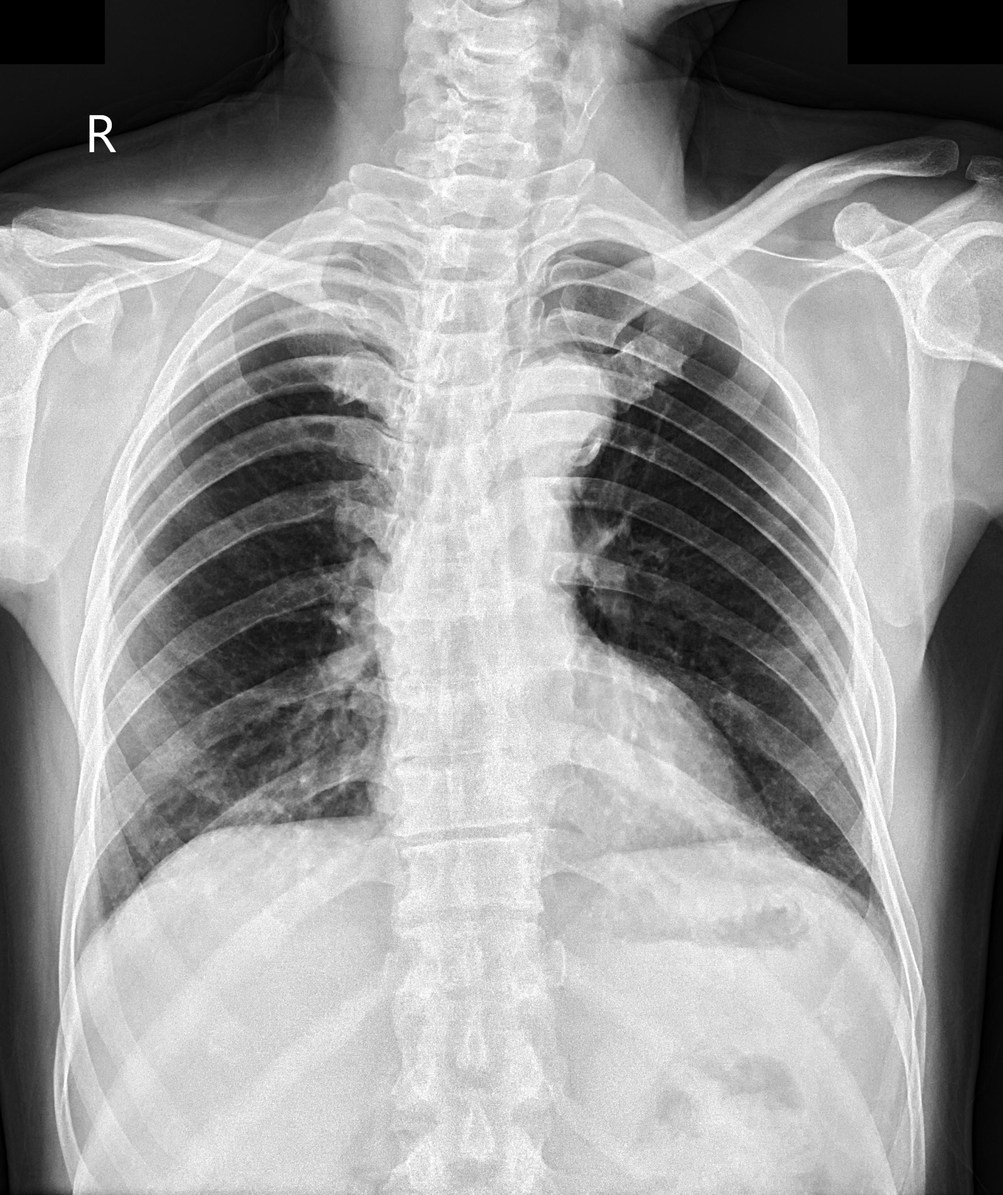Aortic enlargement: (485, 345, 617, 505)
